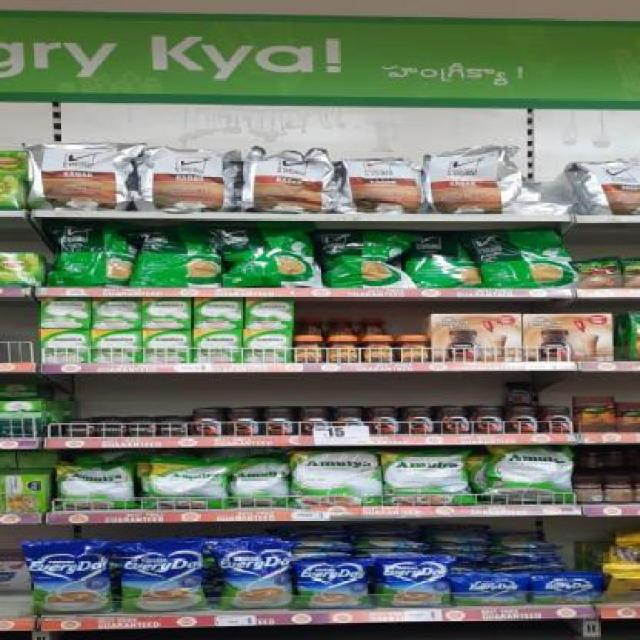Coffee: (402, 408, 436, 434), (396, 336, 429, 362), (326, 336, 359, 362), (474, 406, 504, 434), (438, 408, 470, 434), (334, 408, 364, 435), (293, 336, 324, 362), (370, 408, 398, 435), (508, 408, 537, 434), (543, 407, 572, 433), (192, 410, 222, 435), (366, 336, 394, 362), (263, 409, 292, 434), (302, 409, 328, 436), (230, 410, 258, 435), (158, 420, 188, 436), (97, 421, 128, 436), (127, 420, 156, 436), (66, 422, 92, 436)
